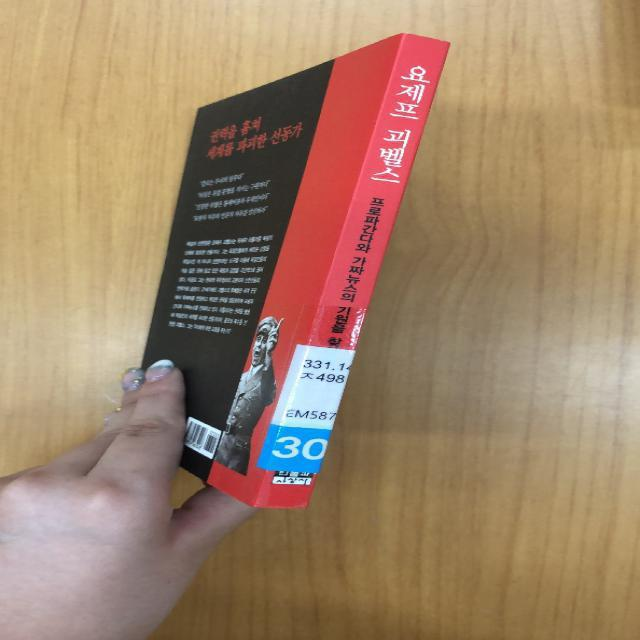Wornout: (253, 500, 312, 513)
